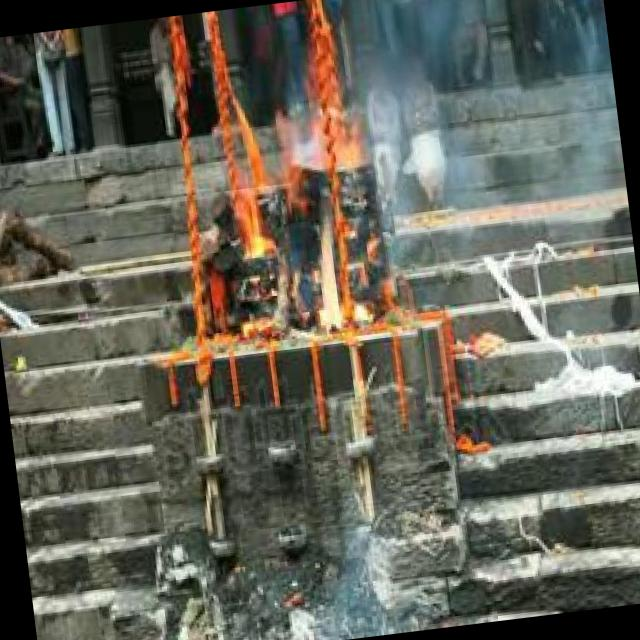Fire: (211, 85, 371, 347)
